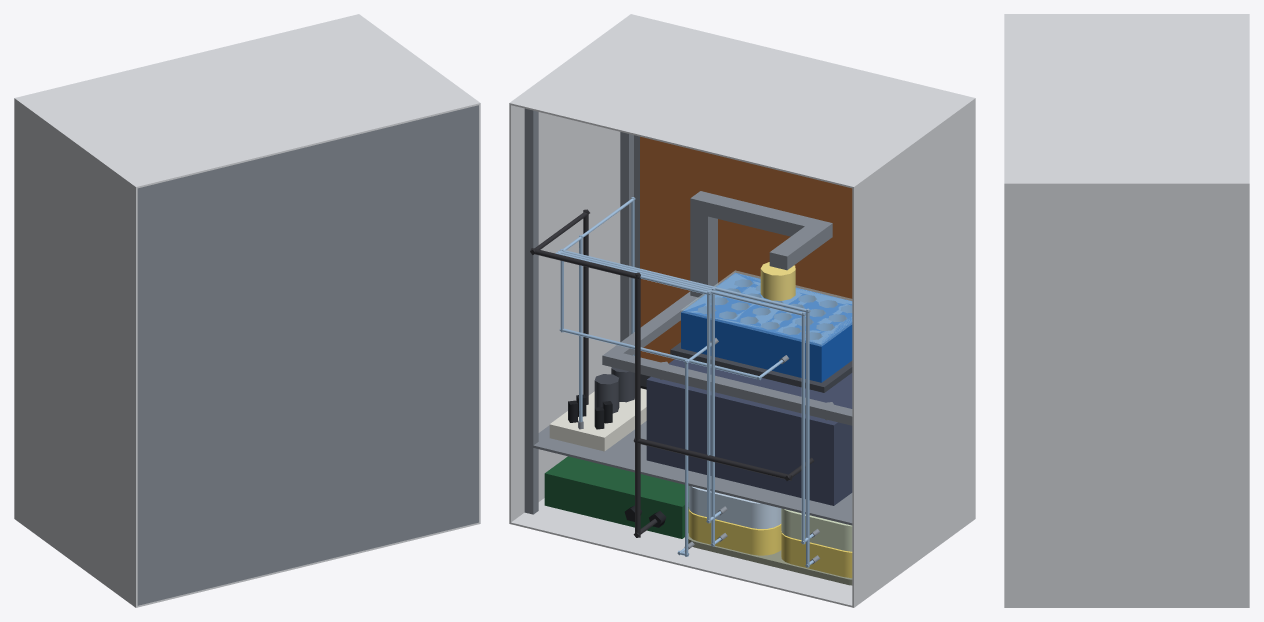
File: MOD-c-elegans-muscle.glb
The picture shows the model from 3 angles, left to right: view 1: azimuth 30°, elevation 25°; view 2: azimuth 150°, elevation 25°; view 3: azimuth 270°, elevation 25°; orthographic projection.
Visible parts, largest first — view 1: housing__back_panel_bay_interface, housing__side_panel_L, housing__top_panel, housing__bottom_panel, housing__side_panel_R; view 2: housing__side_panel_L, housing__top_panel, housing__side_panel_R, thermal__cold_wall_to_the_bay_s_thermoelectric_block, imaging__microscope_base_optics_filter_cubes_camera, sample__cassette_24_wells_SBS_footprint_19_3_mm_pitch, housing__bottom_panel, electronics__controller_enclosure_boards_data_storage, sample__cassette_lid_sealed_and_gas_permeable, housing__corner_post_4, housing__shelf_1, imaging__XY_stage_frame_travel_96_5_x_57_9_mm_every_well_ove (+24 smaller); view 3: housing__side_panel_R, housing__top_panel, housing__bottom_panel.
Boxes of the visible parts, x1=… form: housing__back_panel_bay_interface: x1=137, y1=105, x2=478, y2=605; housing__side_panel_L: x1=14, y1=100, x2=137, y2=605; housing__top_panel: x1=14, y1=14, x2=480, y2=188; housing__bottom_panel: x1=14, y1=517, x2=480, y2=607; housing__side_panel_R: x1=479, y1=105, x2=480, y2=522; housing__side_panel_L: x1=852, y1=100, x2=975, y2=605; housing__top_panel: x1=509, y1=14, x2=975, y2=188; housing__side_panel_R: x1=509, y1=105, x2=620, y2=522; thermal__cold_wall_to_the_bay_s_thermoelectric_block: x1=640, y1=136, x2=852, y2=363; imaging__microscope_base_optics_filter_cubes_camera: x1=646, y1=359, x2=852, y2=505; sample__cassette_24_wells_SBS_footprint_19_3_mm_pitch: x1=681, y1=272, x2=852, y2=382; housing__bottom_panel: x1=509, y1=498, x2=975, y2=607; electronics__controller_enclosure_boards_data_storage: x1=544, y1=456, x2=688, y2=538; sample__cassette_lid_sealed_and_gas_permeable: x1=681, y1=270, x2=852, y2=346; housing__corner_post_4: x1=524, y1=108, x2=538, y2=514; housing__shelf_1: x1=524, y1=421, x2=852, y2=525; imaging__XY_stage_frame_travel_96_5_x_57_9_mm_every_well_ove: x1=602, y1=291, x2=852, y2=425; housing__side_panel_R: x1=1004, y1=185, x2=1249, y2=606; housing__top_panel: x1=1004, y1=14, x2=1249, y2=185; housing__bottom_panel: x1=1004, y1=606, x2=1249, y2=607.
Bounding box in the file's own units: 0.313 × 0.3652 × 0.1913.
